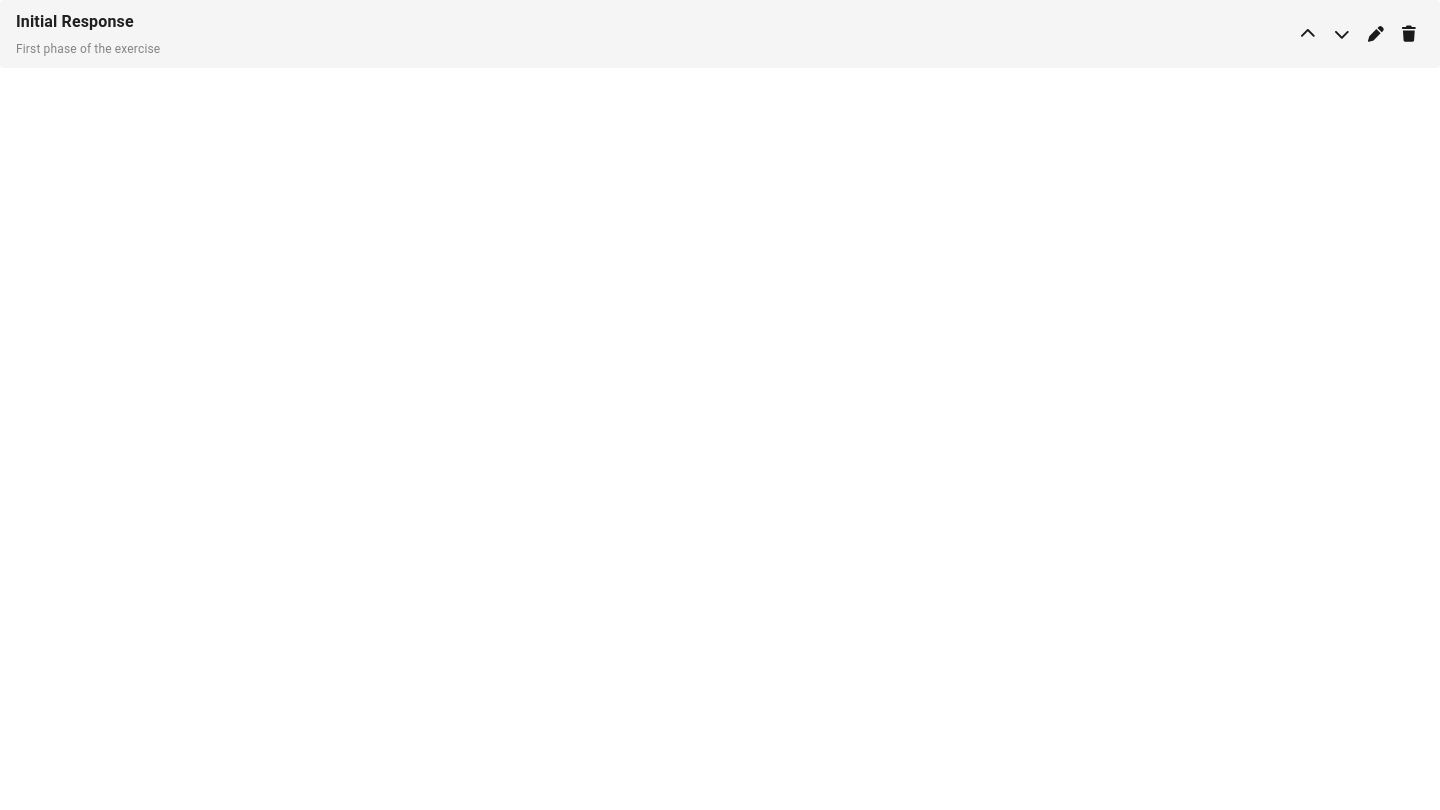
Test case: PhaseHeader › shows delete confirmation dialog when delete is clicked
The width and height of the screenshot is (1440, 810).
# Find and click delete button (last button with non-disabled state)
Click the 4th button: point(1409, 34) [1394, 21, 1424, 47]
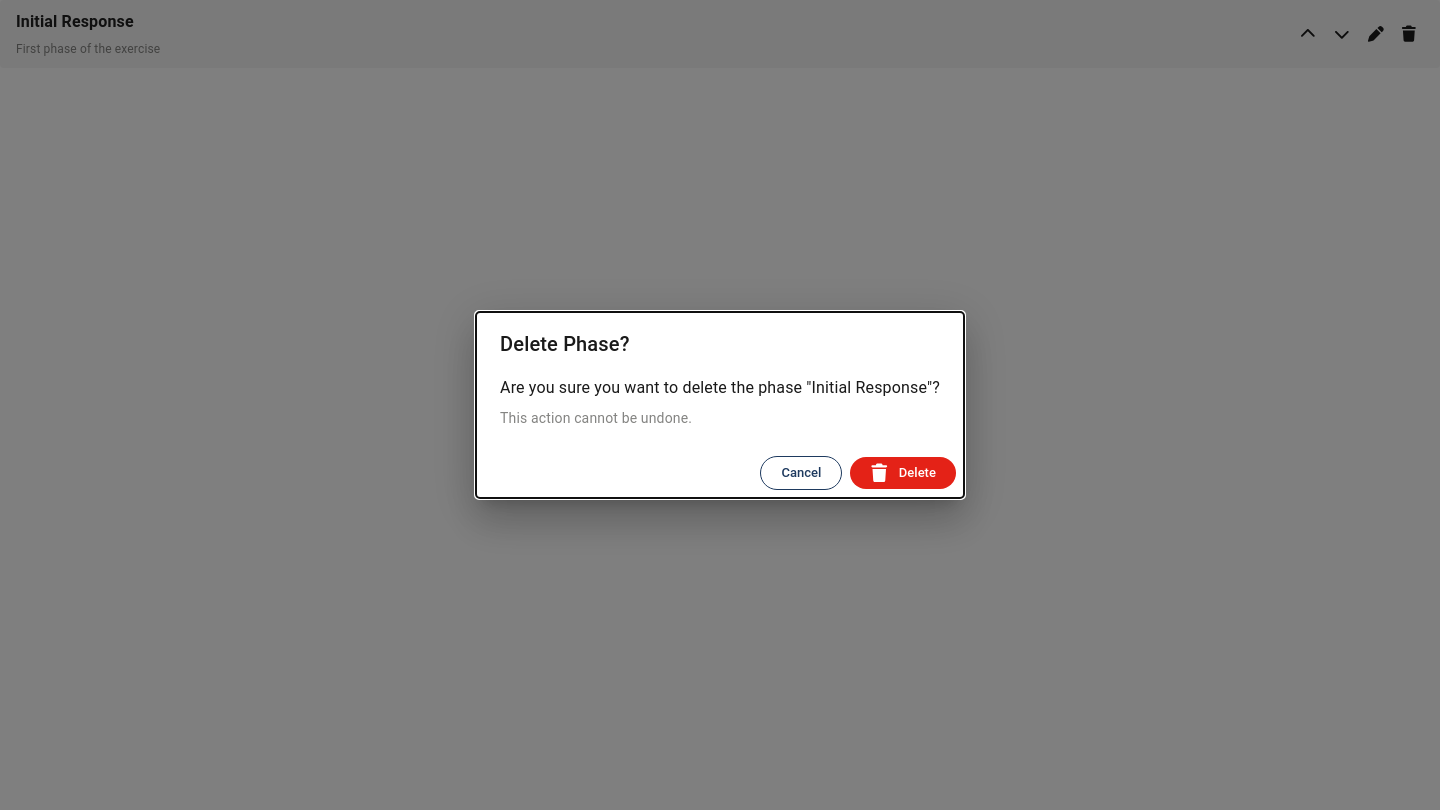
Result: the heading "Delete Phase?" is shown at [500, 332, 630, 356]
Result: the text "Are you sure you want to delete" is shown at [500, 378, 812, 397]
